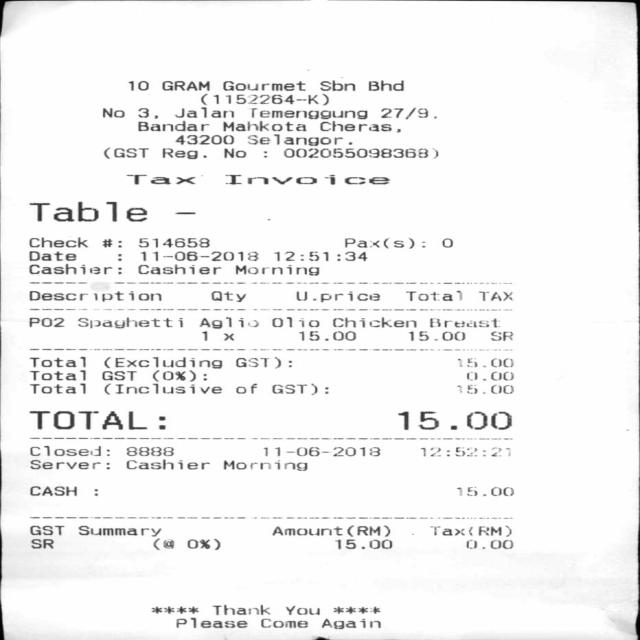text: (27, 410, 165, 430), (28, 201, 146, 220), (396, 411, 510, 430), (283, 147, 437, 158), (200, 93, 328, 105), (224, 175, 389, 184), (246, 107, 367, 119), (102, 356, 220, 368), (270, 524, 388, 536), (102, 382, 219, 394), (29, 291, 161, 301), (138, 250, 255, 260), (262, 446, 378, 456), (245, 133, 341, 145), (76, 317, 182, 327), (28, 263, 122, 274), (234, 264, 318, 276), (125, 458, 209, 469), (418, 447, 510, 457), (136, 263, 219, 274), (331, 316, 414, 327), (429, 525, 510, 536), (320, 121, 400, 132), (343, 237, 422, 248), (222, 120, 305, 130), (223, 460, 306, 470), (76, 525, 159, 535), (273, 251, 365, 260), (296, 291, 378, 301), (223, 80, 304, 90), (30, 446, 109, 456), (137, 120, 208, 131), (30, 459, 109, 468), (175, 618, 246, 628), (428, 317, 497, 327), (406, 290, 462, 302), (380, 107, 435, 119), (235, 356, 290, 368), (174, 106, 233, 117), (198, 317, 257, 328), (137, 238, 208, 247), (29, 356, 86, 367), (271, 382, 327, 393), (125, 174, 193, 183), (296, 331, 356, 341), (30, 382, 84, 393), (174, 134, 233, 144), (152, 369, 205, 380), (210, 604, 268, 614), (321, 618, 379, 628), (29, 237, 86, 247), (406, 330, 463, 340), (334, 539, 391, 549), (456, 486, 512, 496), (30, 369, 84, 379), (453, 358, 510, 367), (271, 316, 317, 327), (456, 384, 512, 393), (102, 147, 146, 158), (161, 80, 208, 90), (464, 538, 511, 548), (29, 250, 75, 260), (126, 446, 172, 456), (162, 148, 206, 158), (464, 371, 511, 380), (29, 486, 75, 495), (260, 618, 306, 627), (186, 538, 219, 550), (28, 317, 63, 327), (99, 370, 134, 380), (27, 525, 62, 535), (318, 80, 352, 90), (368, 80, 402, 90), (209, 291, 243, 301), (284, 605, 318, 615), (478, 291, 512, 300), (488, 330, 511, 341), (152, 537, 173, 549), (102, 107, 124, 117), (30, 538, 52, 548), (128, 80, 148, 90), (223, 148, 245, 157), (101, 238, 120, 248), (235, 384, 256, 393), (138, 108, 156, 118), (222, 332, 235, 340), (439, 238, 450, 247), (200, 330, 208, 340)
